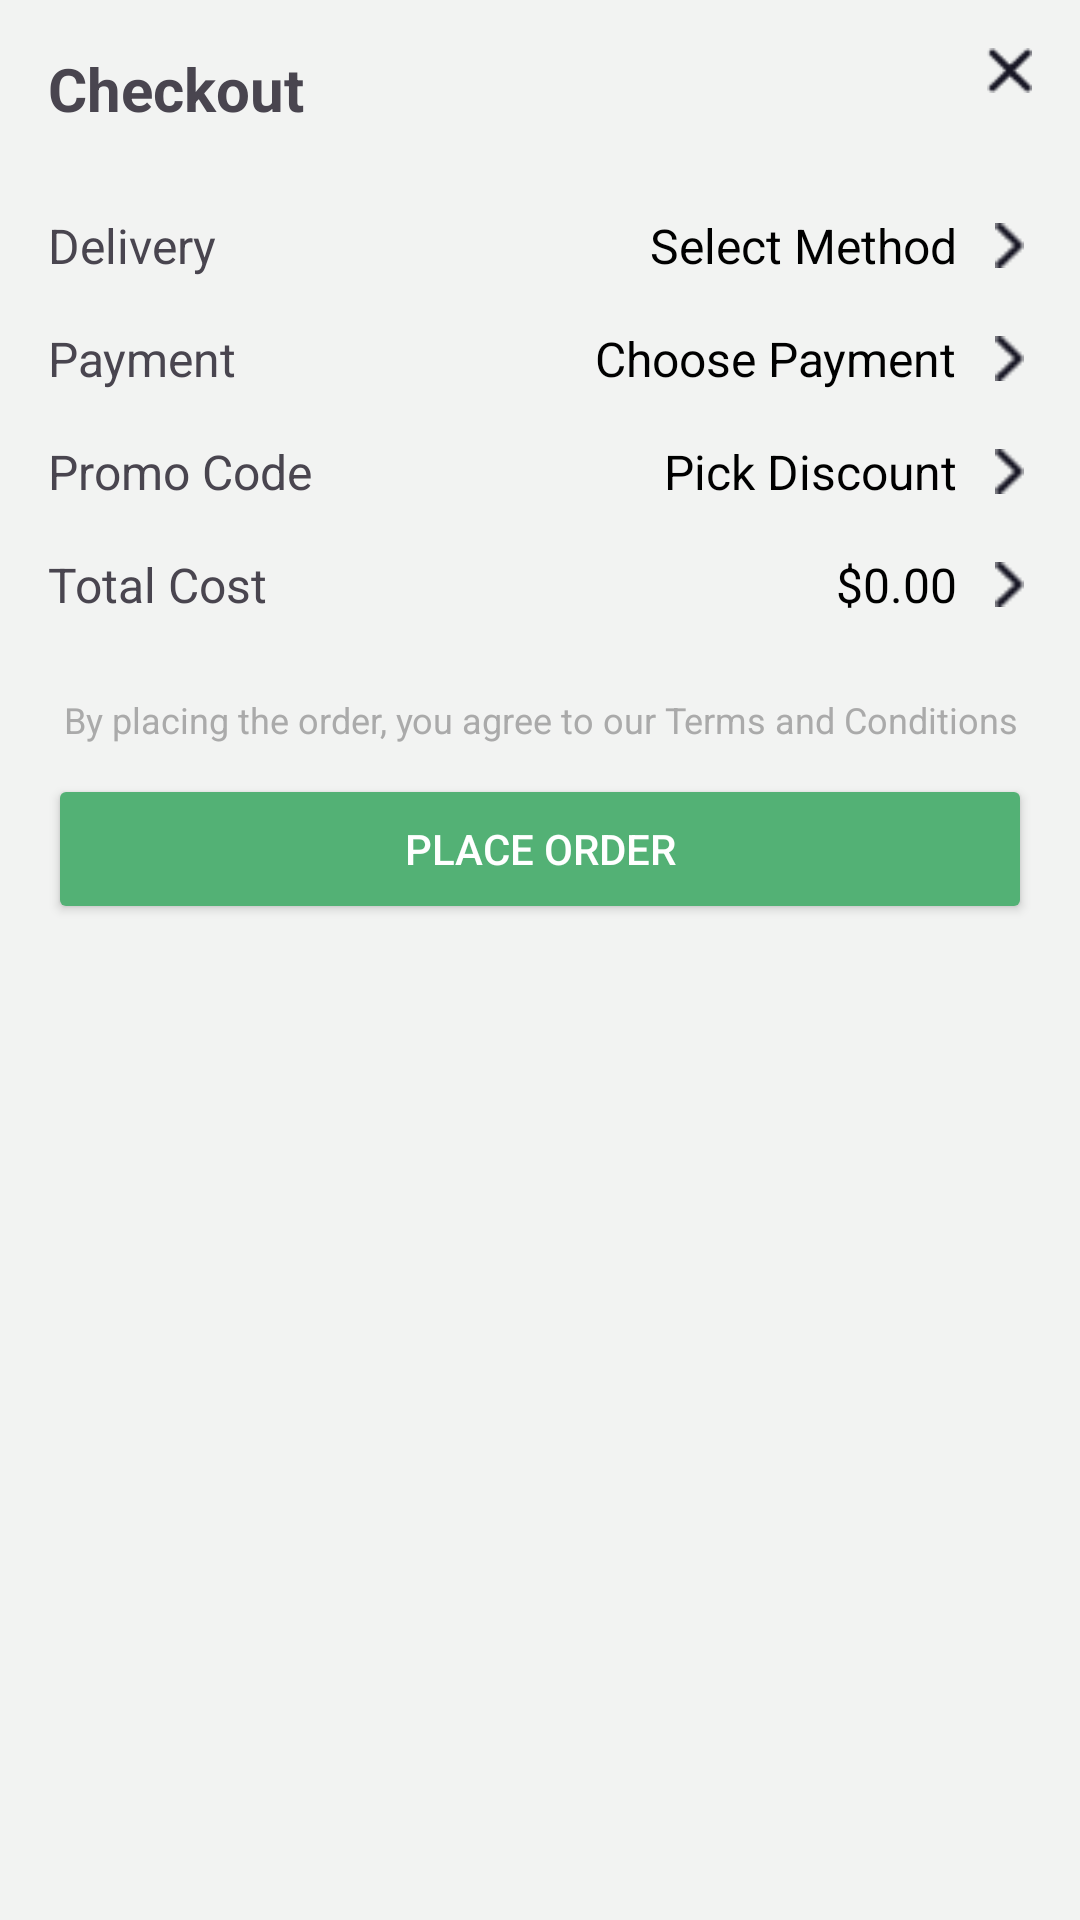

Point at icon controls on the screen. Image size 1080 × 1920, points as (x,y).
Close: (1009,70)
Proceed: (1009,245), (1009,358), (1009,471), (1009,584)
